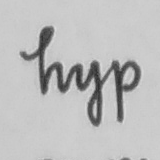h: (35, 23, 67, 97)
p: (109, 57, 143, 125)
y: (72, 57, 106, 130)
